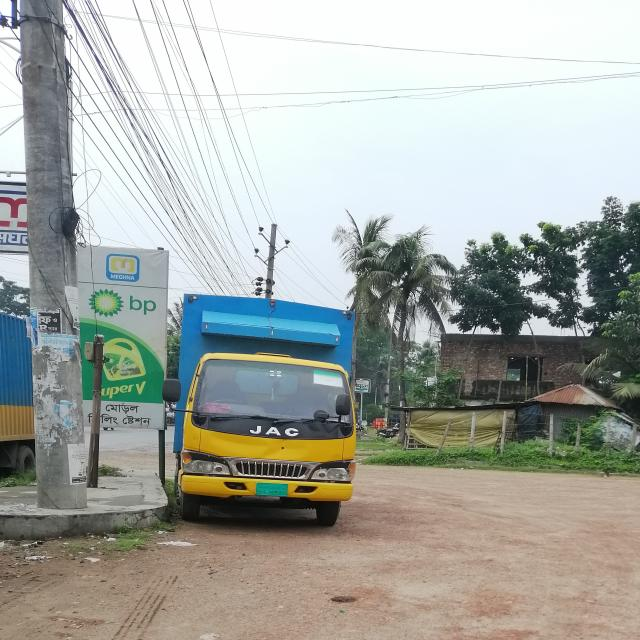Pick-up-van: (171, 291, 383, 551)
